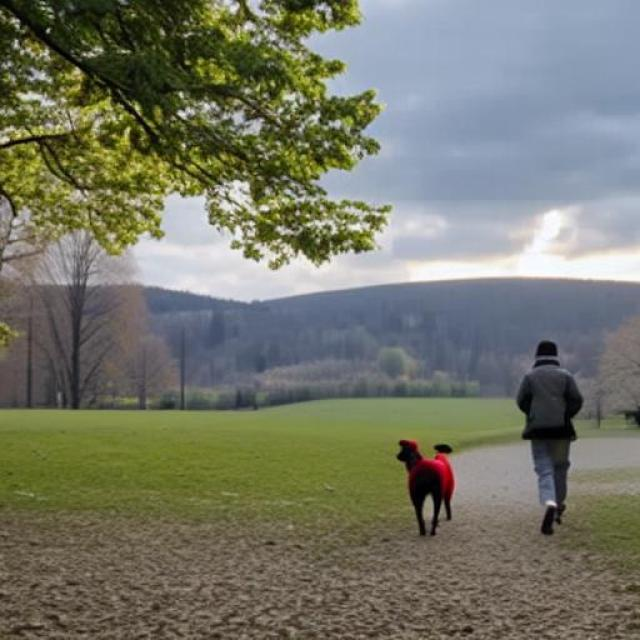Unleashed_Dog: (395, 439, 569, 534)
